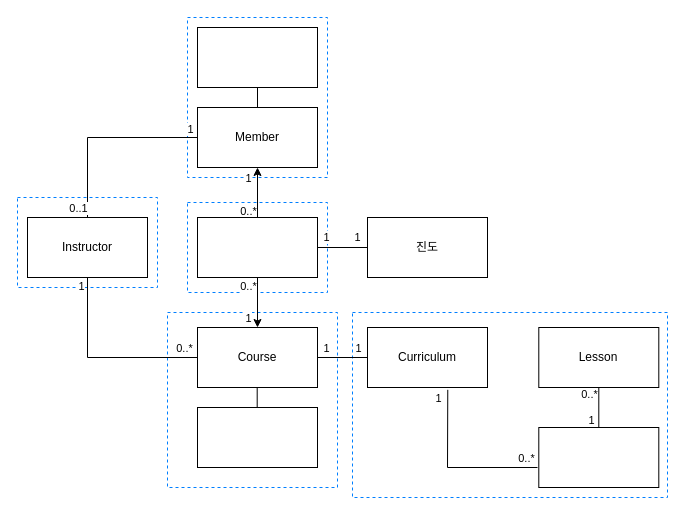
Some shapes in this 685 by 515 pixel diagram are drawn without their labels. Each missing label, with the box of its shape:
CourseDetail: (196, 406, 318, 468)
Enrollment: (196, 216, 318, 278)
MemberDetail: (196, 26, 318, 88)
Section: (538, 426, 659, 488)
